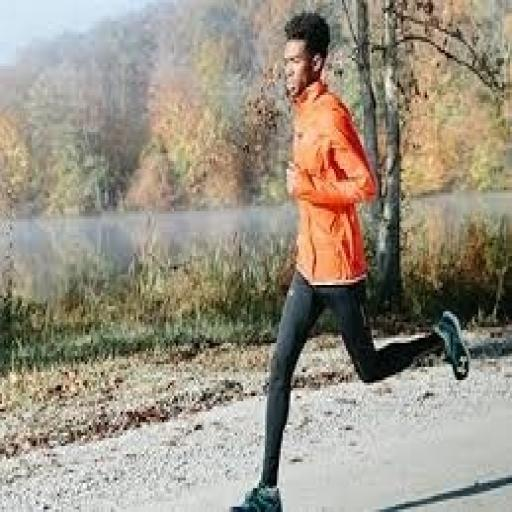running: (228, 8, 474, 509)
